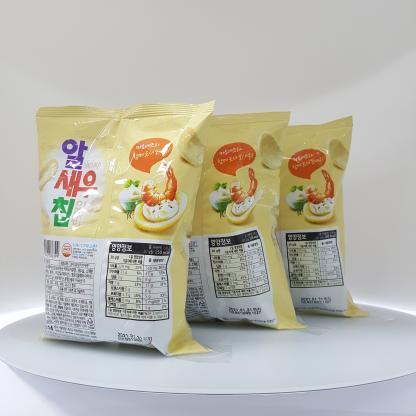Plastic Packaging: (27, 98, 210, 352), (204, 110, 296, 326), (280, 114, 353, 324)
